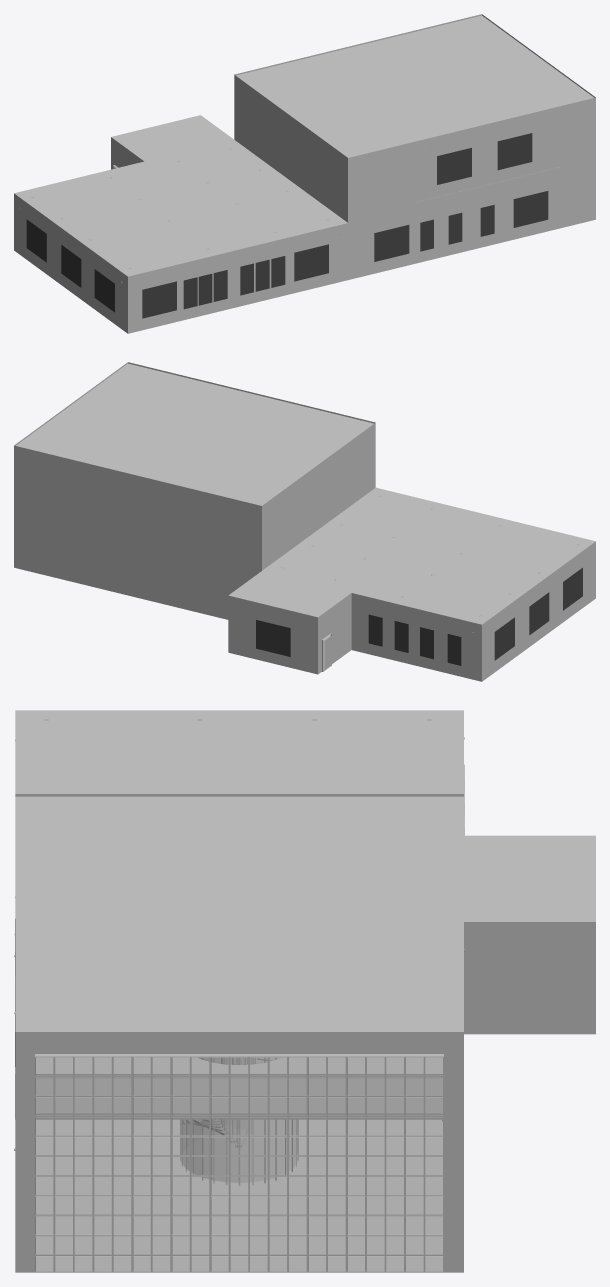
3 views of the same model, one above another, from view 1: azimuth 30°, elevation 25°; view 2: azimuth 150°, elevation 25°; view 3: azimuth 270°, elevation 25° (orthographic). The views are drawn at different scales.
Parts seen in each view (by area): view 1: Walls, Roof_002, Roof_001_Concret_0, Art_Work_Frame_01_Metal_02_0, Art_Work_Frame_28_Metal_02_0, Art_Work_Frame_29_Metal_02_0, Art_Work_Frame_27_Metal_02_0, Art_Work_Frame_02_Metal_02_0, Art_Work_Frame_26_Metal_02_0, Art_Work_Frame_25_Metal_02_0, Art_Work_Frame_23_Metal_02_0, Art_Work_Frame_24_Metal_02_0 (+7 smaller); view 2: Walls, Roof_002, Roof_001_Concret_0, Art_Work_Frame_09_Metal_02_0, Art_Work_Frame_23_Metal_02_0, Art_Work_Frame_24_Metal_02_0, Art_Work_Frame_25_Metal_02_0, Art_Work_Frame_11_Metal_02_0, Art_Work_Frame_10_Metal_02_0, Art_Work_Frame_13_Metal_02_0; view 3: Roof_001_Concret_0, Window_Glass_0, Floor_00_Material #1127_0, Roof_002, Walls, Window_Metal_01_0, Floor_01_Concret_0, Hand_Rail_001_Glass_0, Hand Rail_Stair_Glass_Glass_0, Hand_Rail_001_Metal_01_0, Mesh_Rail_Metal_01_0.
Part boxes in pixels (x1,y1,x2,y2): Walls: (14, 14, 595, 333); Roof_002: (14, 115, 347, 276); Roof_001_Concret_0: (236, 15, 593, 157); Art_Work_Frame_01_Metal_02_0: (497, 133, 532, 170); Art_Work_Frame_28_Metal_02_0: (374, 225, 409, 261); Art_Work_Frame_29_Metal_02_0: (513, 191, 548, 227); Art_Work_Frame_27_Metal_02_0: (294, 244, 328, 281); Art_Work_Frame_02_Metal_02_0: (437, 147, 471, 184); Art_Work_Frame_26_Metal_02_0: (142, 281, 176, 318); Art_Work_Frame_25_Metal_02_0: (94, 269, 114, 312); Art_Work_Frame_23_Metal_02_0: (26, 219, 46, 262); Art_Work_Frame_24_Metal_02_0: (61, 245, 81, 287); Walls: (14, 362, 595, 681); Roof_002: (228, 487, 595, 624); Roof_001_Concret_0: (16, 363, 373, 505); Art_Work_Frame_09_Metal_02_0: (256, 620, 290, 656); Art_Work_Frame_23_Metal_02_0: (494, 617, 514, 660); Art_Work_Frame_24_Metal_02_0: (529, 592, 549, 635); Art_Work_Frame_25_Metal_02_0: (563, 567, 582, 610); Art_Work_Frame_11_Metal_02_0: (394, 621, 408, 652); Art_Work_Frame_10_Metal_02_0: (368, 614, 382, 646); Art_Work_Frame_13_Metal_02_0: (447, 634, 461, 665); Roof_001_Concret_0: (15, 796, 463, 1031); Window_Glass_0: (36, 1058, 442, 1270); Floor_00_Material #1127_0: (36, 1058, 442, 1269); Roof_002: (15, 710, 595, 921); Walls: (15, 794, 595, 1272); Window_Metal_01_0: (35, 1056, 443, 1271); Floor_01_Concret_0: (15, 1057, 442, 1119); Hand_Rail_001_Glass_0: (36, 1078, 442, 1112); Hand Rail_Stair_Glass_Glass_0: (180, 1058, 297, 1182); Hand_Rail_001_Metal_01_0: (15, 1073, 442, 1118); Mesh_Rail_Metal_01_0: (180, 1057, 298, 1185).
Size of the model in its own units: 34.15 by 8.46 by 18.55.
